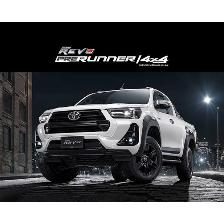NON-EV: (36, 85, 202, 186)
